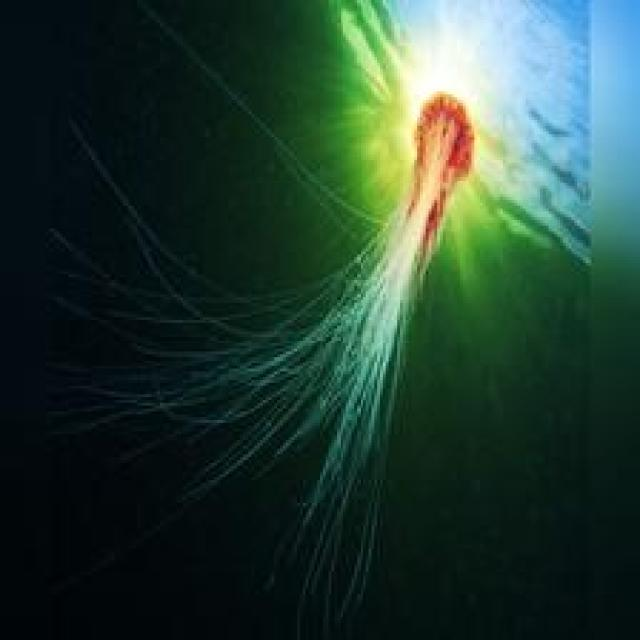Box-jellyfish: (171, 38, 550, 502)
